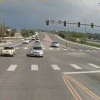crosswalk: (6, 63, 100, 72), (15, 46, 75, 50)
